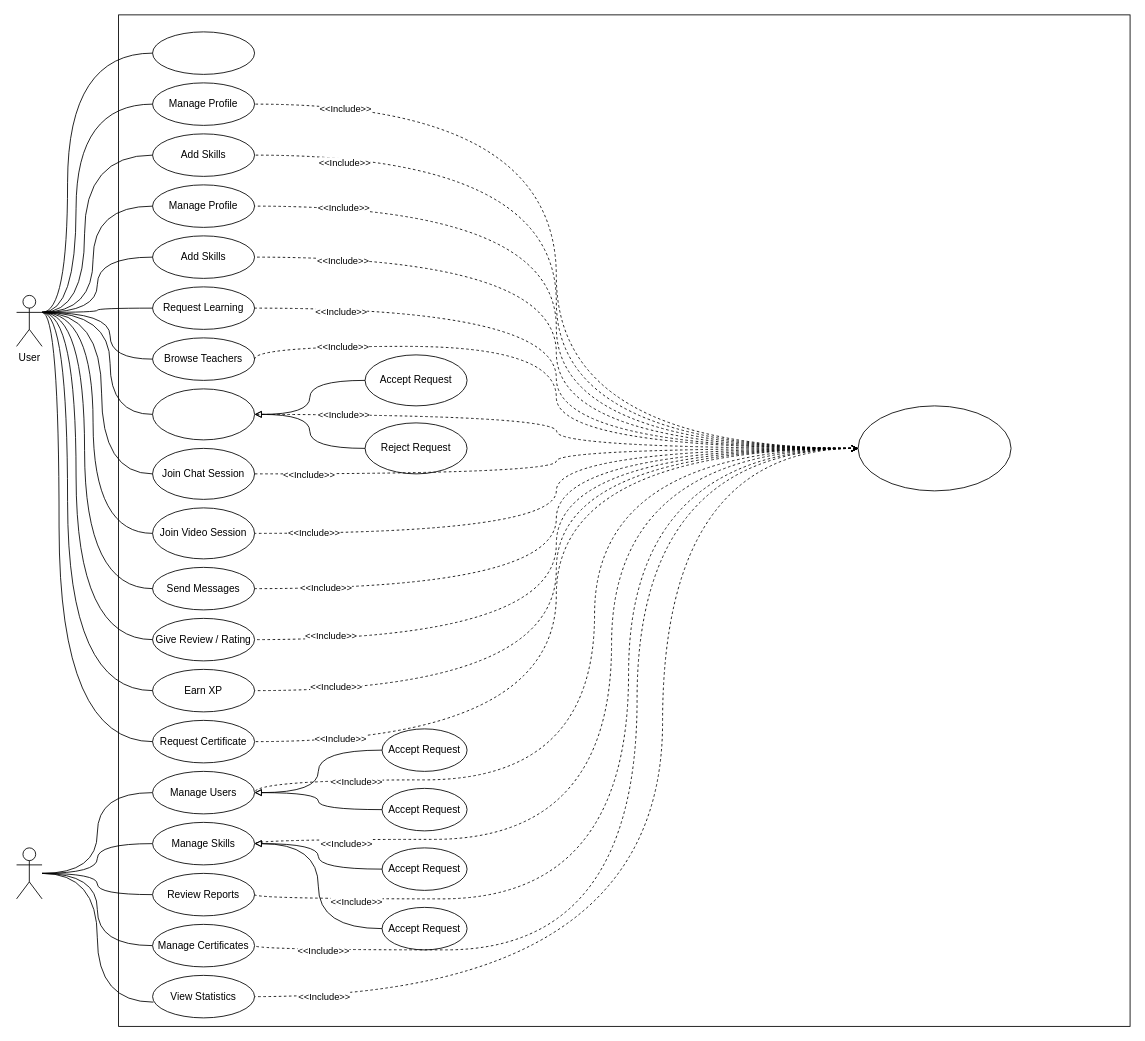
This 1145x1041 diagram has some shape labels left out. The shapes that lost their labels are listed below. From the top down, each one's centre as x and y in pixels, then its label:
At point (203, 52): "Register".
At point (203, 414): "Manage Requests".
At point (934, 448): "Login".
At point (29, 873): "Admin".
